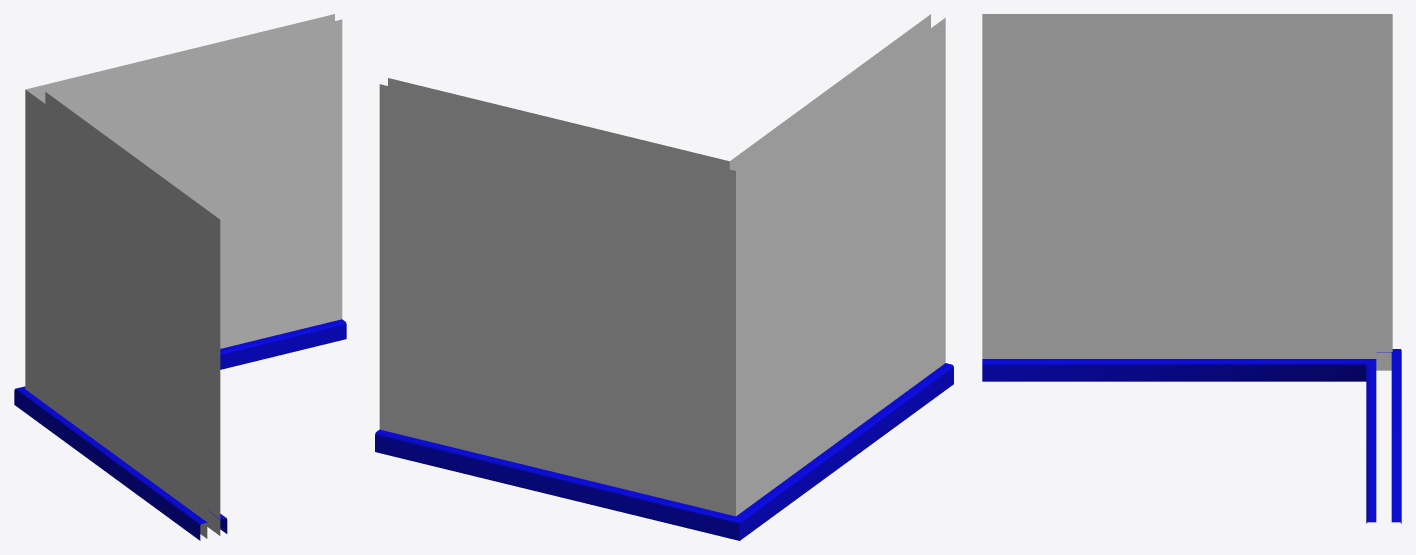
The model's file is PlainWallCorner.fbx.
The picture shows the model from 3 angles, left to right: view 1: azimuth 30°, elevation 25°; view 2: azimuth 150°, elevation 25°; view 3: azimuth 270°, elevation 25°; orthographic projection. The views are drawn at different scales.
Visible parts, largest first — view 1: Wall, Trim; view 2: Wall, Trim; view 3: Wall, Trim.
Boxes of the visible parts, bbox=[...] form: Wall: bbox=[25, 14, 342, 538]; Trim: bbox=[14, 319, 346, 540]; Wall: bbox=[379, 14, 945, 516]; Trim: bbox=[375, 363, 953, 540]; Wall: bbox=[982, 14, 1392, 370]; Trim: bbox=[982, 349, 1401, 523].
Size of the model in its own units: 12.56 by 12 by 12.77.
